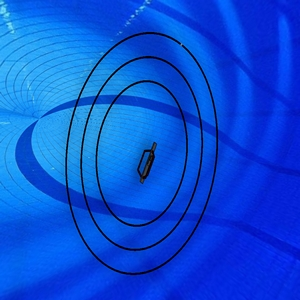circle: (63, 30, 220, 277)
submarine: (136, 140, 159, 186)
